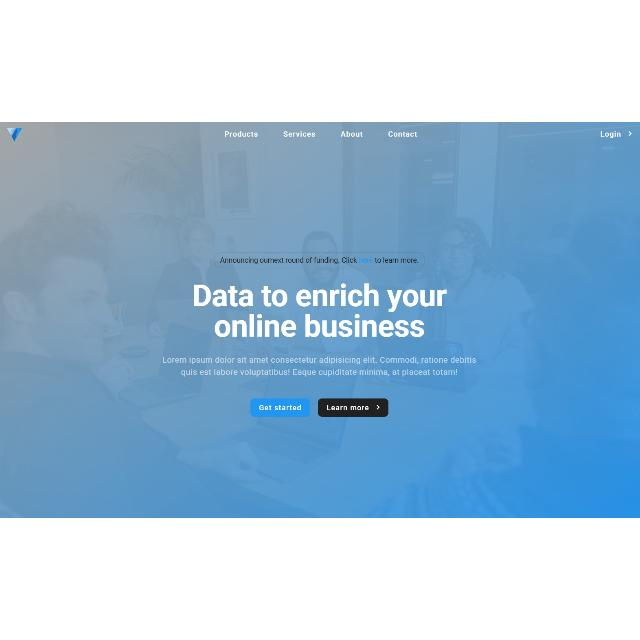QLabel: (192, 284, 448, 312), (214, 314, 426, 340), (161, 357, 477, 365), (181, 369, 459, 376), (220, 257, 358, 265), (326, 404, 369, 412), (374, 258, 420, 264), (224, 130, 258, 138), (283, 130, 315, 138), (260, 406, 302, 412), (388, 131, 418, 137), (341, 130, 363, 138), (600, 131, 620, 139), (360, 257, 372, 263)
VBtn: (213, 252, 425, 270), (317, 398, 389, 418), (250, 398, 310, 418)
VIcon: (628, 131, 632, 137), (376, 405, 380, 411)
VImg: (5, 126, 22, 142)
